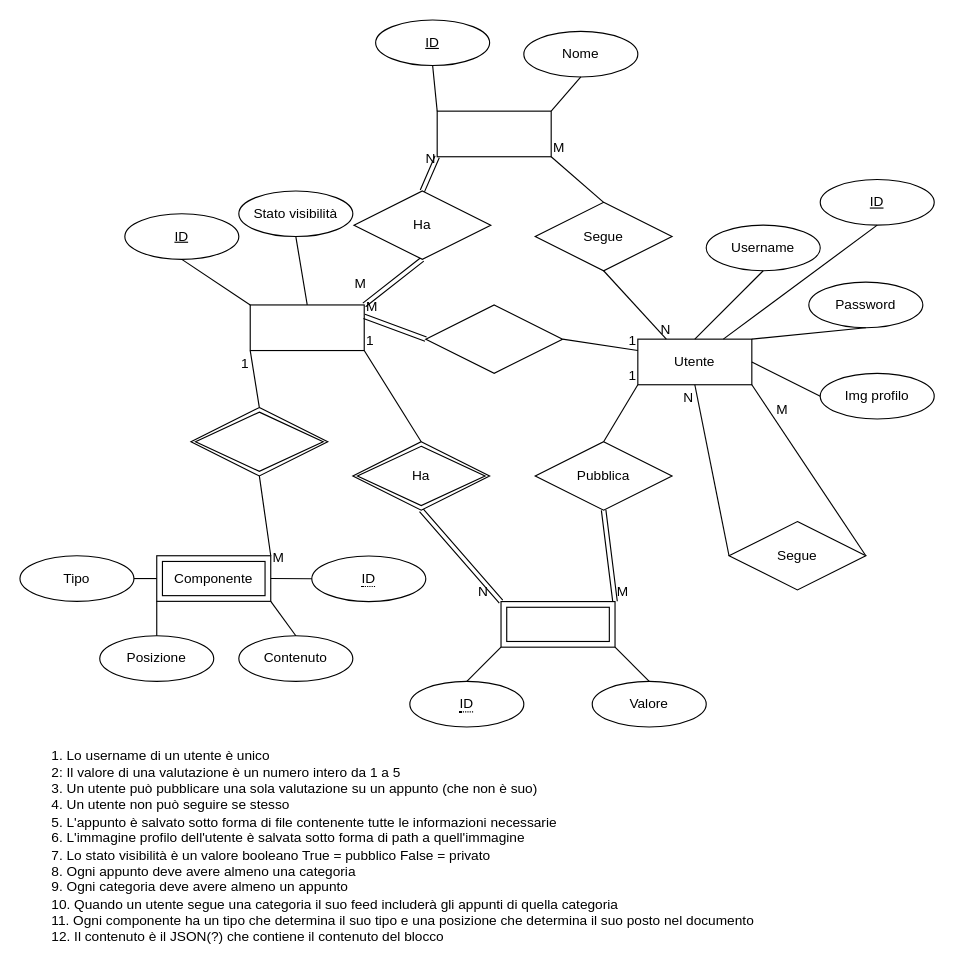
Image size: 954x975. Some labels were removed from this diagram. Here are the shapes that lost their labels. From the top down, the centre of each, then its label:
(493,133): Categoria
(306,327): Appunto
(494,338): Crea
(259,441): Formato
(557,623): Valutazione
